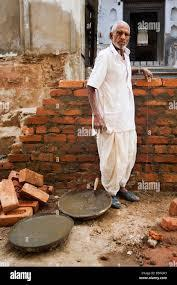Human: (85, 14, 149, 208)
